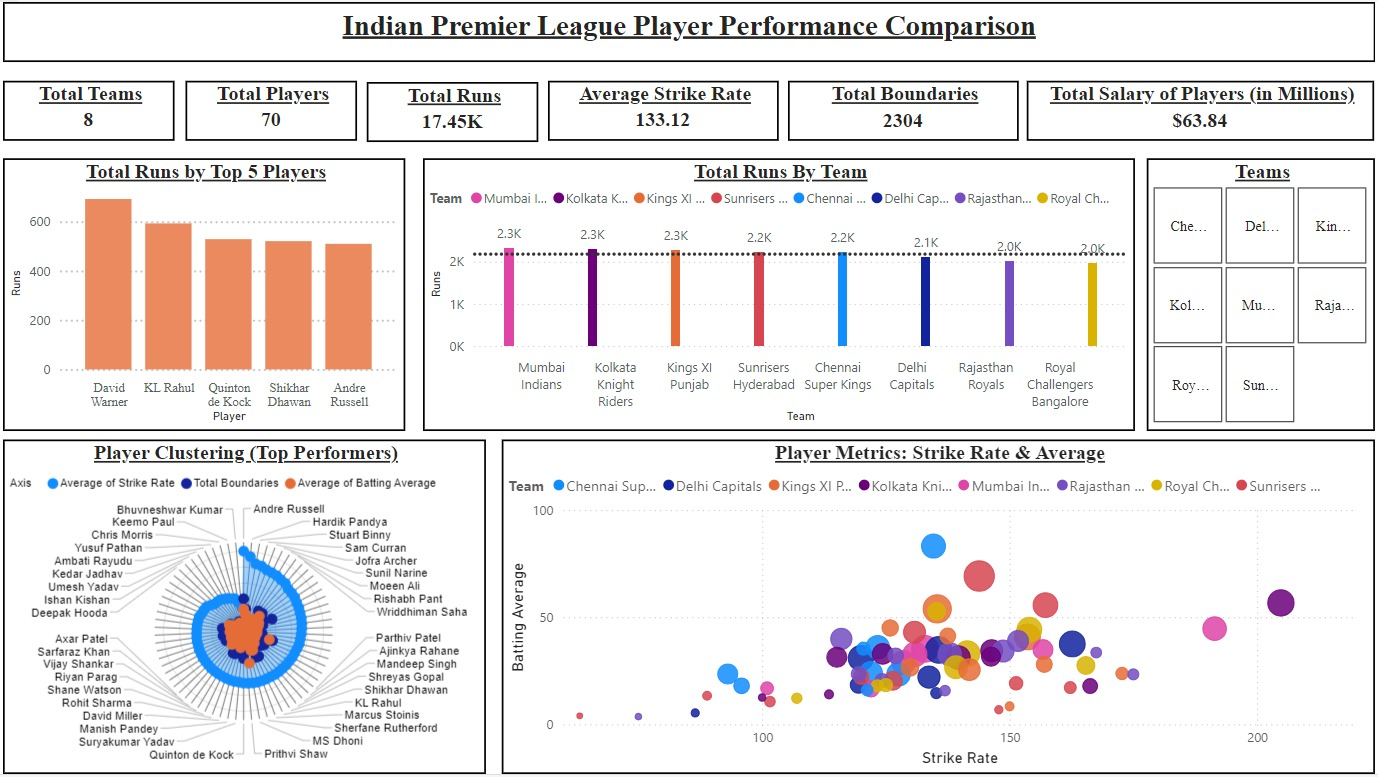

This screenshot's page, from the dashboard's own definition file:
{"tool":"powerbi","page":{"name":"Player Performance Comparison","canvas":[1280,720],"ordinal":0},"visuals":[{"type":"card","title":"Total Runs","fields":{"Values":["Sheet1.Runs"]},"box":[338.7,74.6,160.2,56.3],"z":0},{"type":"card","title":"Average Strike Rate","fields":{"Values":["Sheet1.SR"]},"box":[508.7,73.4,215.2,56.3],"z":1000},{"type":"card","title":"Total Boundaries","fields":{"Values":["Sheet1.Total Boundaries"]},"box":[732.5,73.4,215.2,56.3],"z":2000},{"type":"card","title":"Total Salary of Players (in Millions)","fields":{"Values":["Sheet1.Salary "]},"box":[955,73.4,324.1,56.3],"z":3000},{"type":"columnChart","title":"Total Runs by Top 5 Players","fields":{"Category":["Sheet1.Player"],"Y":["Sheet1.Runs"]},"box":[0,145.5,375.4,254.3],"z":4000},{"type":"clusteredColumnChart","title":"Total Runs By Team","fields":{"Category":["Sheet1.Team"],"Y":["Sheet1.Runs"],"Series":["Sheet1.Team"]},"box":[391.3,145.5,664,254.3],"z":5000},{"type":"RadarChart1446119667547","title":"Player Clustering (Top Performers)","fields":{"Category":["Sheet1.Player"],"Y":["Sheet1.SR","Sheet1.Total Boundaries","Sheet1.Avg"]},"box":[0,408.4,450,311.8],"z":6000},{"type":"advancedSlicerVisual","title":"Teams","fields":{"Values":["Sheet1.Team"]},"box":[1066.3,145.5,212.8,254.3],"z":7000},{"type":"scatterChart","title":"Player Metrics: Strike Rate & Average","fields":{"Category":["Sheet1.Player"],"X":["Sheet1.SR"],"Y":["Sheet1.Avg"],"Series":["Sheet1.Team"],"Size":["Sheet1.Runs"]},"box":[464.7,408.2,814.4,311.8],"z":8000},{"type":"textbox","box":[0,0,1280,56.3],"z":9000},{"type":"card","title":"Total Teams","fields":{"Values":["Sheet1.Team"]},"box":[0,73.4,160.2,56.3],"z":10000},{"type":"card","title":"Total Players","fields":{"Values":["Sheet1.Player"]},"box":[170,73.4,160.2,56.3],"z":11000}]}

Visuals, with their boxes in screenshot pixels (x1, y1, x2, y2), scaled from the page's 1280x720 canvas onto the 1378x777 screenshot:
"Total Runs" card: select_region(365, 81, 537, 141)
"Average Strike Rate" card: select_region(548, 79, 779, 140)
"Total Boundaries" card: select_region(789, 79, 1020, 140)
"Total Salary of Players (in Millions)" card: select_region(1028, 79, 1377, 140)
"Total Runs by Top 5 Players" columnChart: select_region(0, 157, 404, 431)
"Total Runs By Team" clusteredColumnChart: select_region(421, 157, 1136, 431)
"Player Clustering (Top Performers)" RadarChart1446119667547: select_region(0, 441, 484, 776)
"Teams" advancedSlicerVisual: select_region(1148, 157, 1377, 431)
"Player Metrics: Strike Rate & Average" scatterChart: select_region(500, 441, 1377, 776)
textbox: select_region(0, 0, 1377, 61)
"Total Teams" card: select_region(0, 79, 172, 140)
"Total Players" card: select_region(183, 79, 355, 140)
